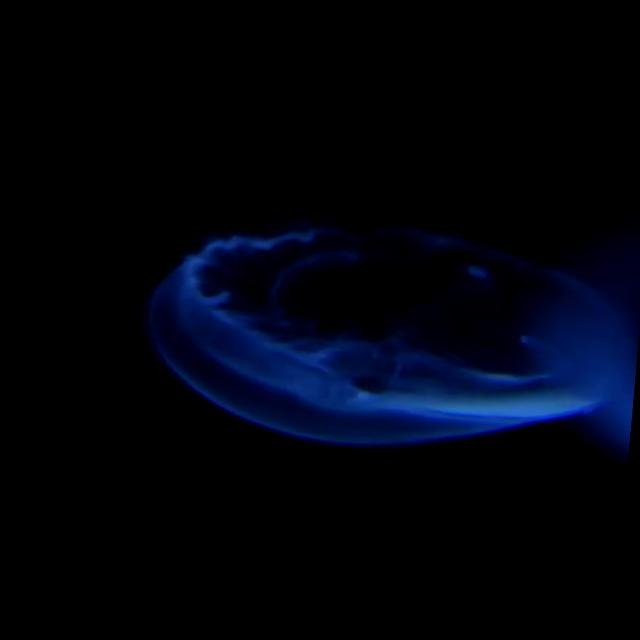Moon-jellyfish: (144, 218, 603, 446)
